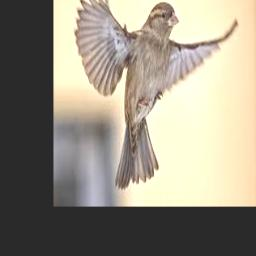Sparrow: (75, 0, 237, 188)
